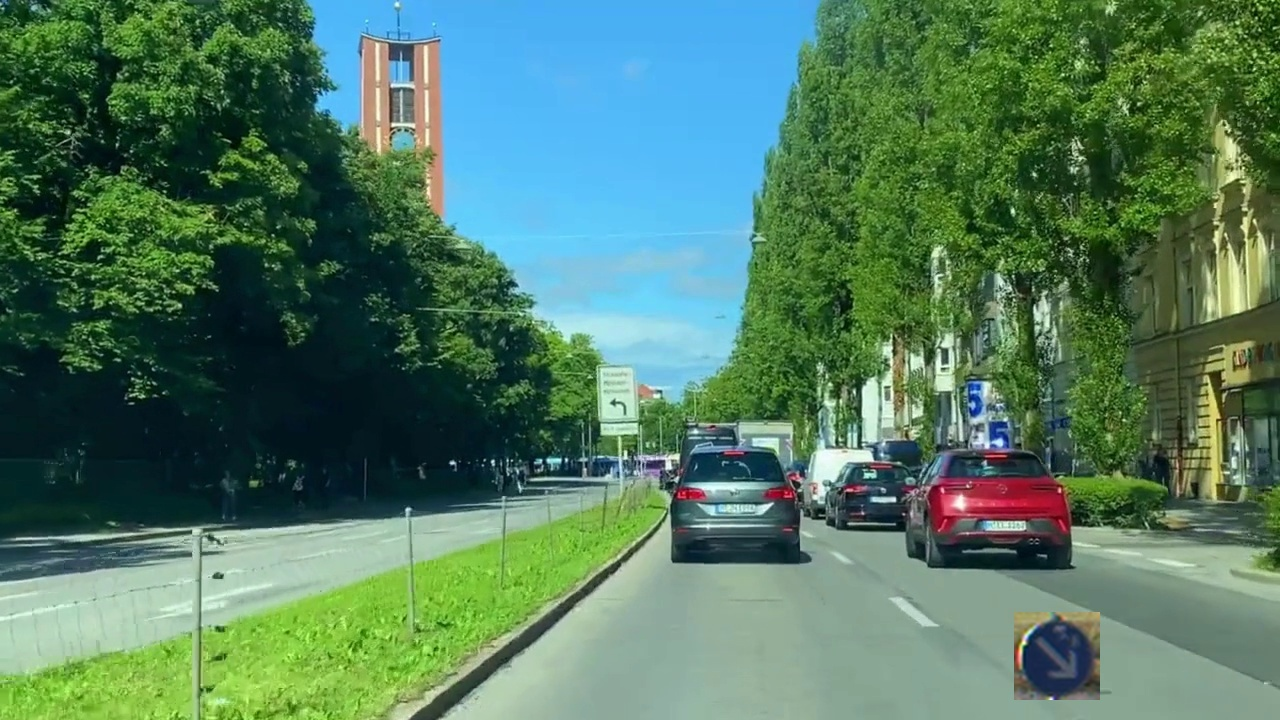Keep right: (1014, 612, 1100, 700)
